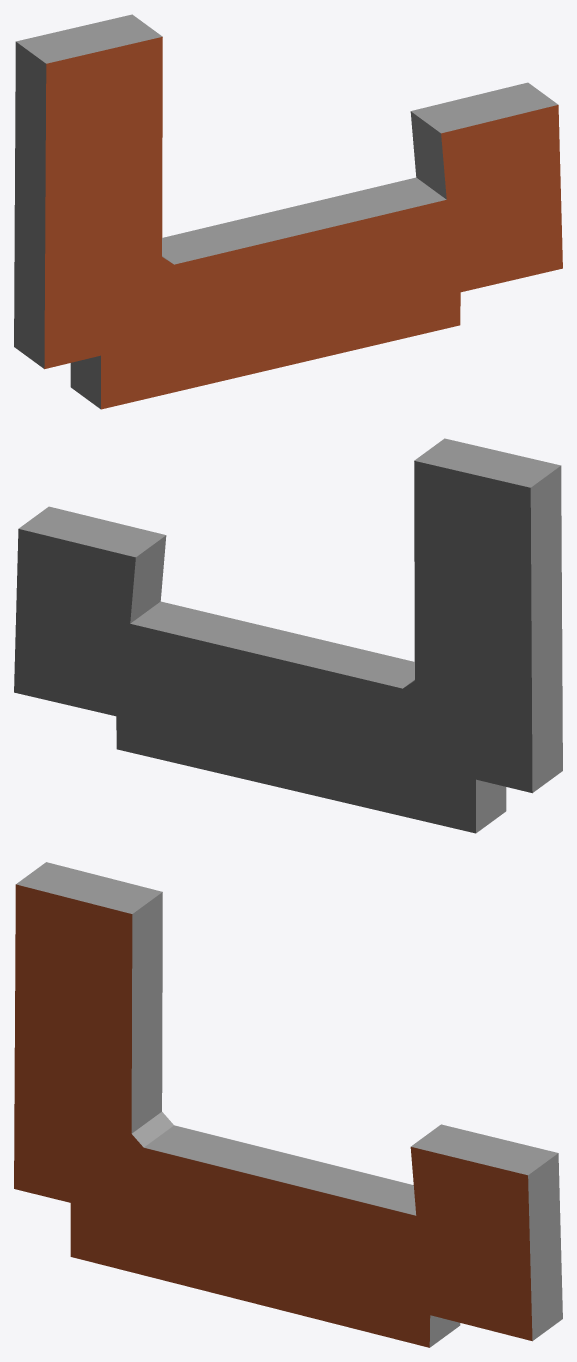
Rendered from construction_2130_assumed_A_Casa_h6m.obj.
The picture shows the model from 3 angles, top to bottom: view 1: azimuth 30°, elevation 25°; view 2: azimuth 150°, elevation 25°; view 3: azimuth 330°, elevation 25°; orthographic projection.
Visible parts, largest first — view 1: construction_2130_assumed_A_Casa; view 2: construction_2130_assumed_A_Casa; view 3: construction_2130_assumed_A_Casa.
Boxes of the visible parts, left/top/right/bottom form: construction_2130_assumed_A_Casa: left=14, top=14, right=562, bottom=409; construction_2130_assumed_A_Casa: left=14, top=438, right=562, bottom=833; construction_2130_assumed_A_Casa: left=14, top=862, right=562, bottom=1347.
Bounding box in the file's own units: 58.92 × 39.36 × 6.
